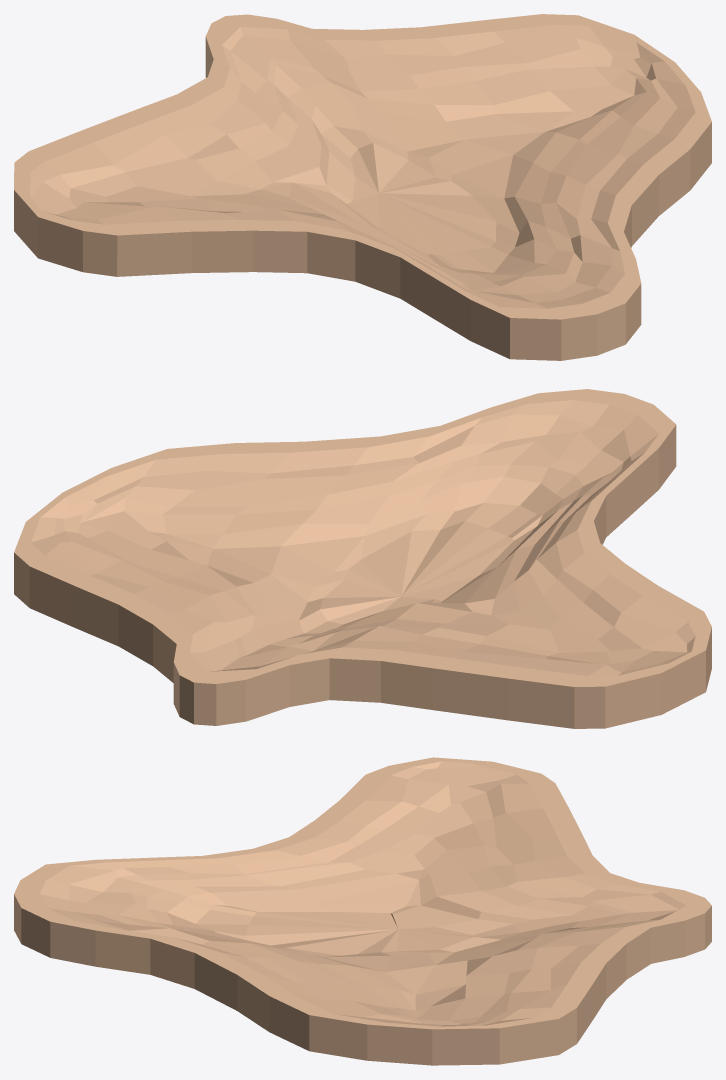
File: SandPit_Medium.fbx
The picture shows the model from 3 angles, top to bottom: view 1: azimuth 30°, elevation 25°; view 2: azimuth 150°, elevation 25°; view 3: azimuth 270°, elevation 25°; orthographic projection. The views are drawn at different scales.
Visible parts, largest first — view 1: Cylinder.003; view 2: Cylinder.003; view 3: Cylinder.003.
Part boxes in pixels (left/top/right/bottom): Cylinder.003: left=14, top=14, right=711, bottom=360; Cylinder.003: left=14, top=389, right=711, bottom=728; Cylinder.003: left=14, top=757, right=711, bottom=1065.
Size of the model in its own units: 13659 by 2231 by 14816.
